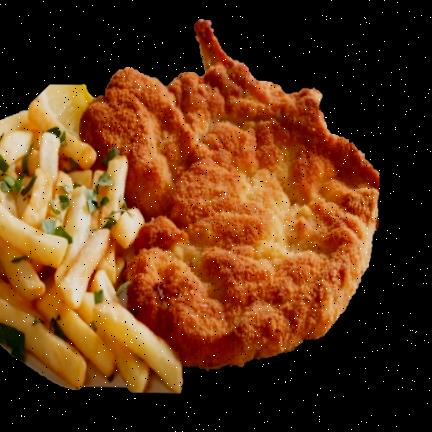chicken: (81, 20, 379, 369)
potato: (0, 84, 180, 392)
